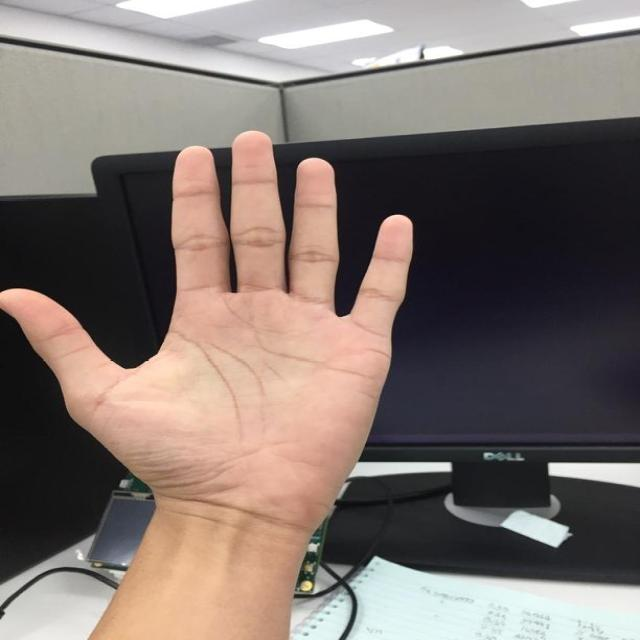hand: (0, 132, 419, 529)
